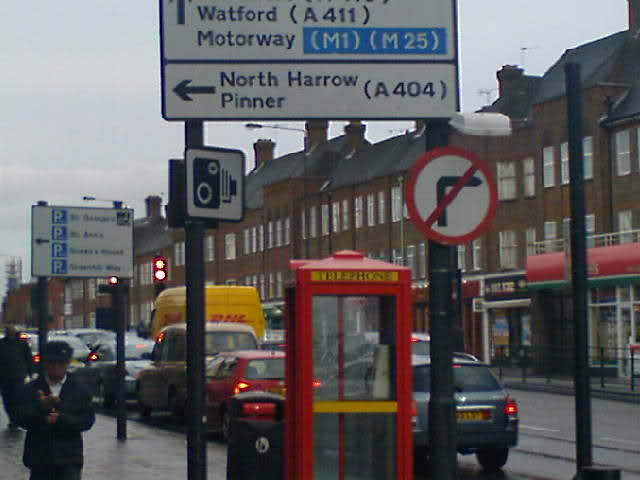No_right_turn: (407, 145, 499, 245)
